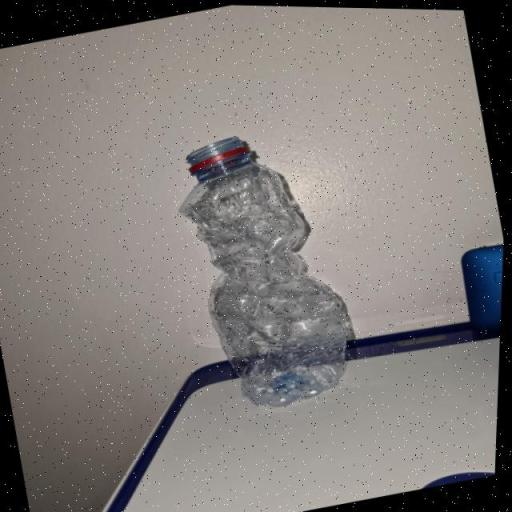plastic: (158, 112, 379, 422)
